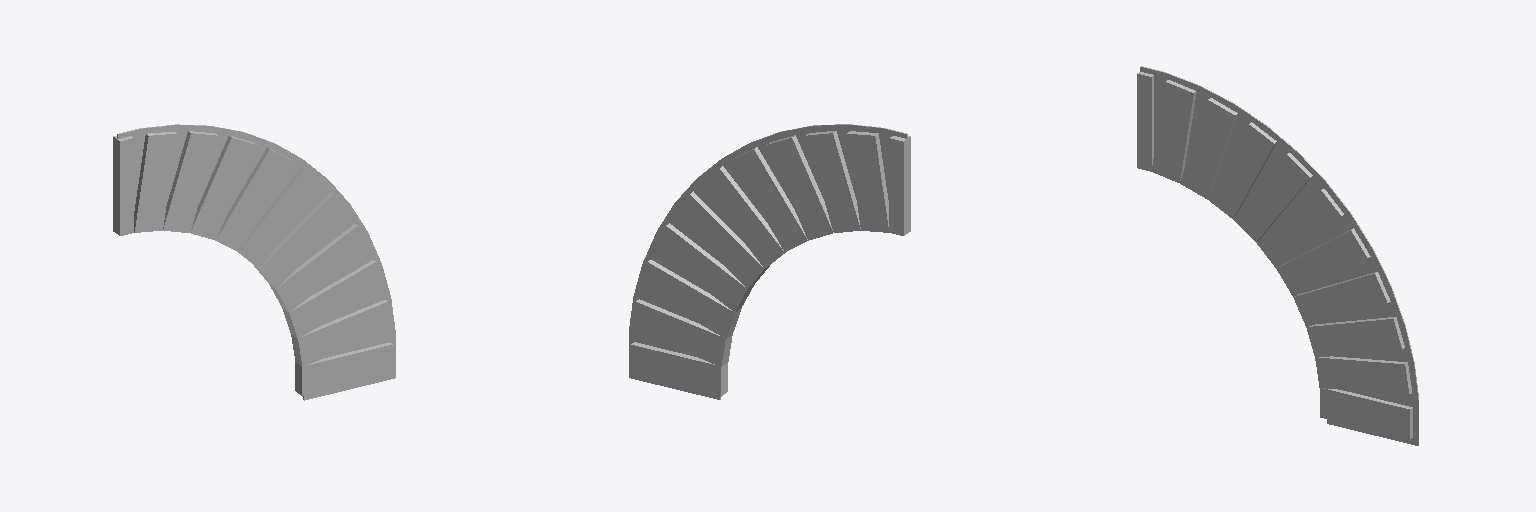
File: lime_mortar_orange_clay_brick_facade_round_arch_2_right_bottom.obj
3 renders of one model, left to right at view 1: azimuth 30°, elevation 25°; view 2: azimuth 150°, elevation 25°; view 3: azimuth 330°, elevation 25°, orthographic.
Visible parts, largest first — view 1: cube.049, cube.048, cube.047, cube.050, cube.051, cube.053, cube.052, cube.055, cube.054, cube.056, cube.057, cube.058 (+7 smaller); view 2: cube.049, cube.050, cube.048, cube.051, cube.053, cube.054, cube.052, cube.047, cube.055, cube.056, cube.057, cube.058 (+3 smaller); view 3: cube.056, cube.048, cube.055, cube.047, cube.049, cube.054, cube.050, cube.053, cube.051, cube.052, cube.057, cube.065 (+10 smaller).
Boxes of the visible parts, <box> form: cube.049: <box>282,260,384,338</box>; cube.048: <box>291,300,391,366</box>; cube.047: <box>295,342,392,396</box>; cube.050: <box>269,224,369,311</box>; cube.051: <box>254,192,349,288</box>; cube.053: <box>216,147,292,251</box>; cube.052: <box>238,166,323,268</box>; cube.055: <box>163,131,217,232</box>; cube.054: <box>190,136,256,240</box>; cube.056: <box>134,131,176,232</box>; cube.057: <box>113,136,133,235</box>; cube.058: <box>303,334,395,400</box>; cube.049: <box>639,260,741,338</box>; cube.050: <box>653,223,754,312</box>; cube.048: <box>631,299,732,366</box>; cube.051: <box>673,191,769,288</box>; cube.053: <box>731,147,807,252</box>; cube.054: <box>767,135,833,240</box>; cube.052: <box>700,166,784,268</box>; cube.047: <box>631,342,727,396</box>; cube.055: <box>806,131,860,232</box>; cube.056: <box>847,131,888,232</box>; cube.057: <box>889,136,910,235</box>; cube.058: <box>629,334,720,399</box>; cube.056: <box>1152,80,1196,182</box>; cube.048: <box>1315,356,1411,394</box>; cube.055: <box>1180,98,1237,198</box>; cube.047: <box>1320,388,1412,438</box>; cube.049: <box>1306,317,1404,357</box>; cube.054: <box>1207,122,1276,218</box>; cube.050: <box>1293,272,1390,326</box>; cube.053: <box>1233,153,1312,241</box>; cube.051: <box>1277,228,1370,296</box>; cube.052: <box>1256,189,1343,268</box>; cube.057: <box>1137,72,1153,171</box>; cube.065: <box>1262,152,1326,236</box>.
Bounding box in the file's own units: 1.52 × 1.62 × 0.0677.